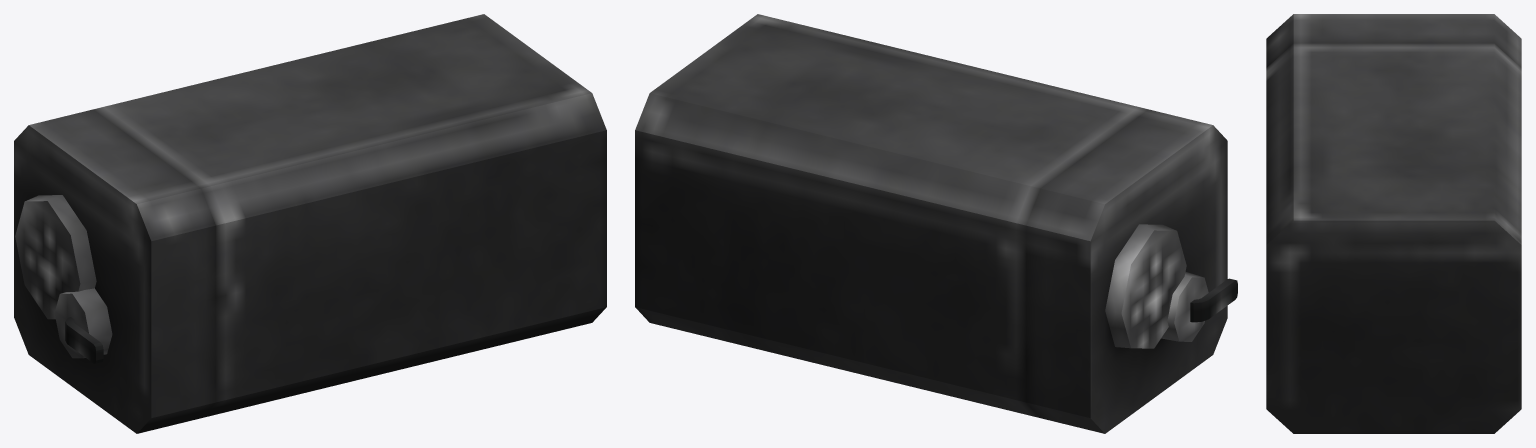
The model's file is safety_box.FBX.
3 views of the same model, side by side, from view 1: azimuth 30°, elevation 25°; view 2: azimuth 150°, elevation 25°; view 3: azimuth 270°, elevation 25° (orthographic). The views are drawn at different scales.
Parts seen in each view (by area): view 1: InventoryItem_Safebox; view 2: InventoryItem_Safebox; view 3: InventoryItem_Safebox.
Part boxes in pixels (x1,y1,x2,y2): InventoryItem_Safebox: (14,14,606,433); InventoryItem_Safebox: (635,14,1237,433); InventoryItem_Safebox: (1266,14,1521,433).
Size of the model in its own units: 416 by 203 by 187.
1 material, 1 textured.
